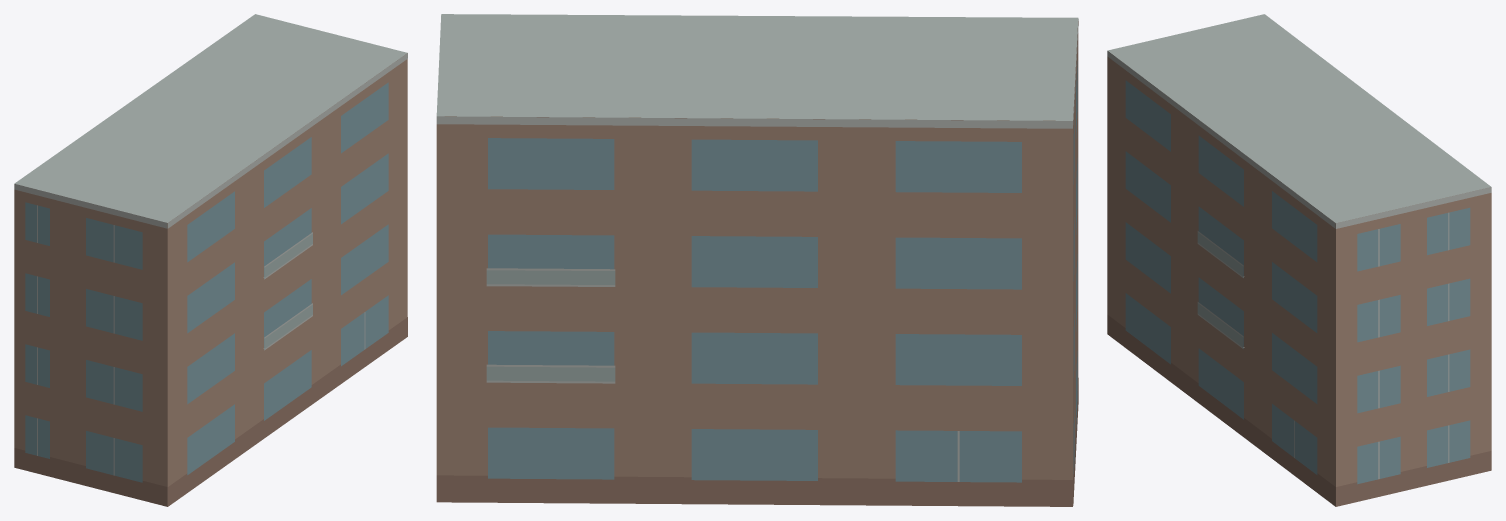
File: survey-upis-32726766.glb
3 renders of one model, left to right at view 1: azimuth 30°, elevation 25°; view 2: azimuth 150°, elevation 25°; view 3: azimuth 270°, elevation 25°, orthographic. The views are drawn at different scales.
Parts seen in each view (by area): view 1: survey-upis-32726766.tmp; view 2: survey-upis-32726766.tmp; view 3: survey-upis-32726766.tmp.
Boxes of the visible parts, <box> form: survey-upis-32726766.tmp: <box>14,14,407,506</box>; survey-upis-32726766.tmp: <box>436,14,1078,506</box>; survey-upis-32726766.tmp: <box>1107,14,1491,506</box>.
Bounding box in the file's own units: 18.84 × 11.9 × 14.62.
